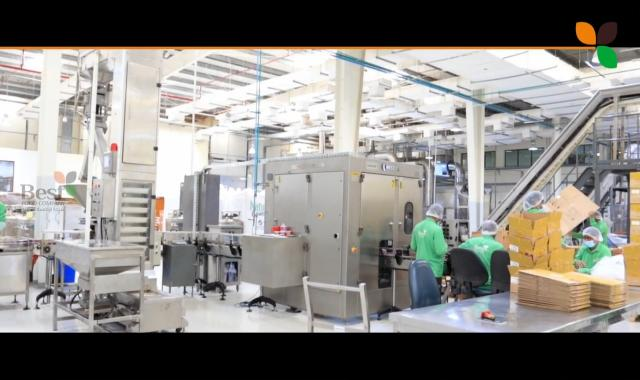hairnet: (523, 190, 544, 208), (581, 227, 601, 244), (427, 202, 444, 219), (481, 218, 496, 234), (592, 212, 604, 220)
